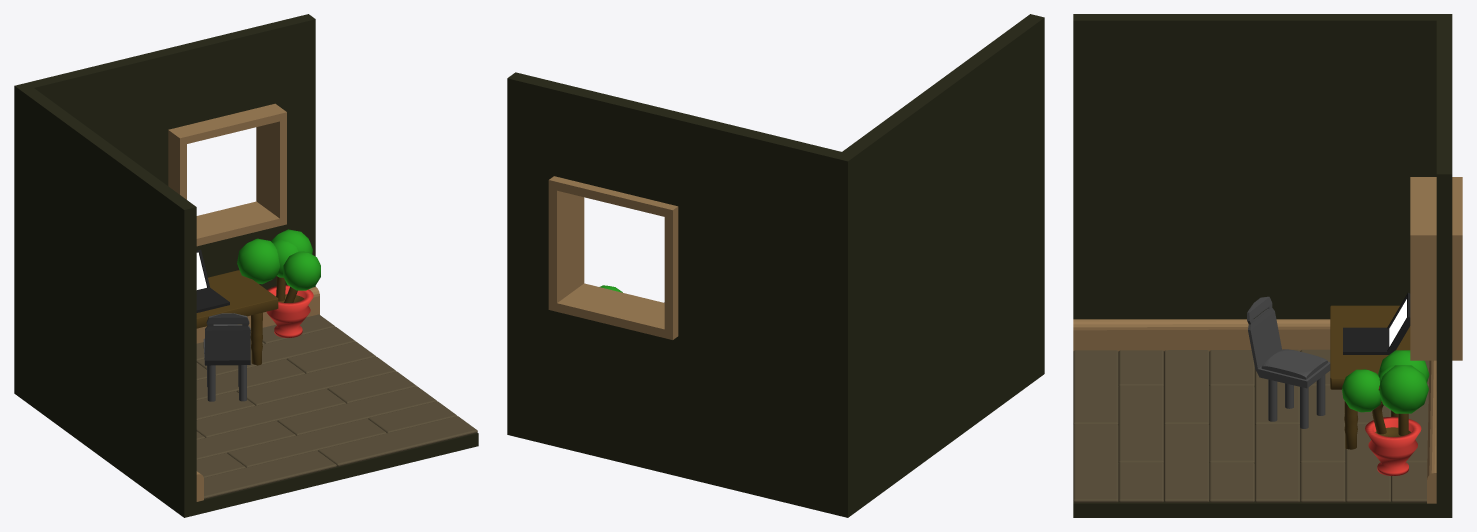
File: house.glb
3 renders of one model, left to right at view 1: azimuth 30°, elevation 25°; view 2: azimuth 150°, elevation 25°; view 3: azimuth 270°, elevation 25°, orthographic. The views are drawn at different scales.
Parts seen in each view (by area): view 1: Room, Floor, Window, Icosphere, Cube.001, Cube, Laptop, Trim; view 2: Room, Window; view 3: Room, Floor, Trim, Window, Icosphere, Cube.001, Cube, Laptop.
Boxes of the visible parts, x1,y1,x2,y2 form: Room: [14, 14, 478, 517]; Floor: [196, 314, 477, 499]; Window: [168, 103, 286, 246]; Icosphere: [237, 229, 320, 337]; Cube.001: [203, 313, 250, 401]; Cube: [196, 270, 278, 365]; Laptop: [196, 249, 229, 312]; Trim: [196, 287, 319, 501]; Room: [507, 14, 1044, 517]; Window: [548, 176, 678, 339]; Room: [1073, 14, 1452, 517]; Floor: [1073, 349, 1429, 502]; Trim: [1073, 319, 1436, 503]; Window: [1410, 177, 1462, 360]; Icosphere: [1342, 350, 1429, 475]; Cube.001: [1247, 296, 1330, 428]; Cube: [1330, 305, 1410, 449]; Laptop: [1343, 292, 1410, 354].
Size of the model in its own units: 6 by 6 by 6.16.
